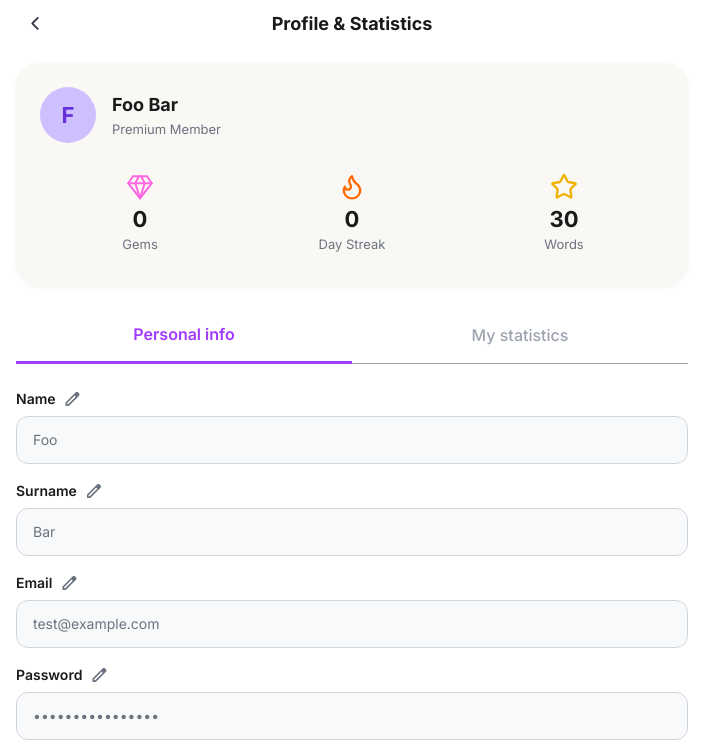
it: ProfilePage › switches to My statistics tab and shows Daily Goal card
Click the tab "My statistics" at (520, 335), box [352,307,688,364]
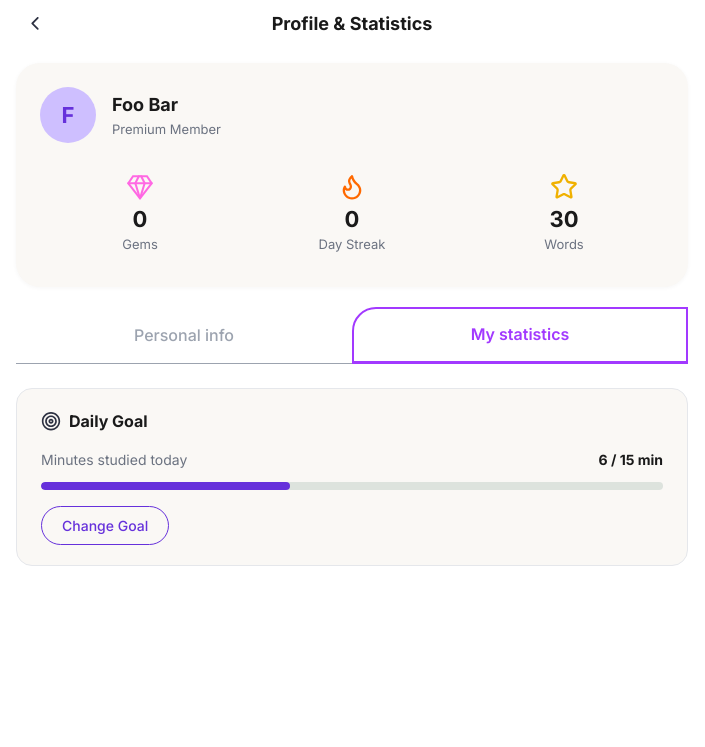
expect the heading "Daily Goal" is shown: met, box [69,409,148,433]
expect the text "6 / 15 min" is shown: met, box [598,449,663,470]
